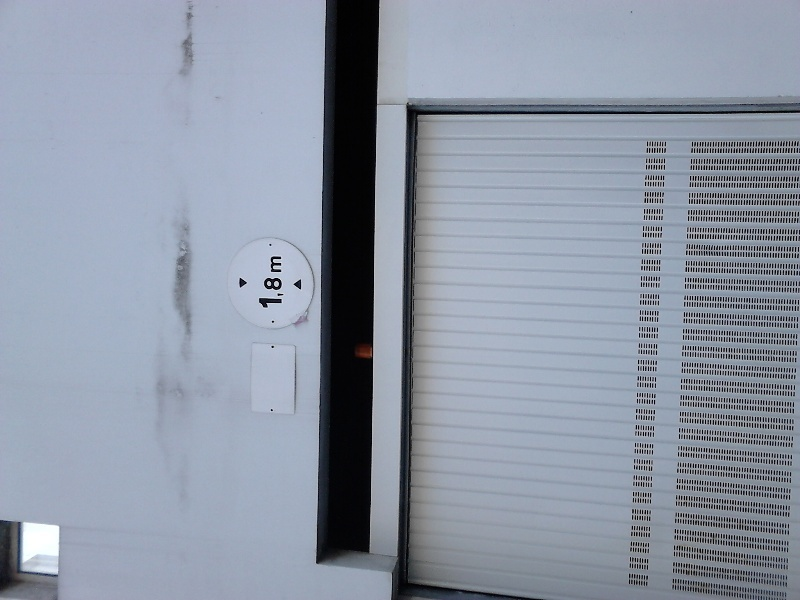text: (273, 255, 285, 310), (261, 255, 272, 310)
